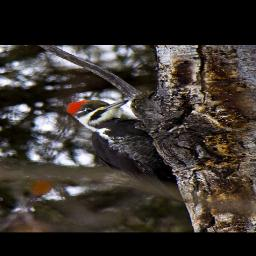Woodpecker: (62, 98, 176, 189)
